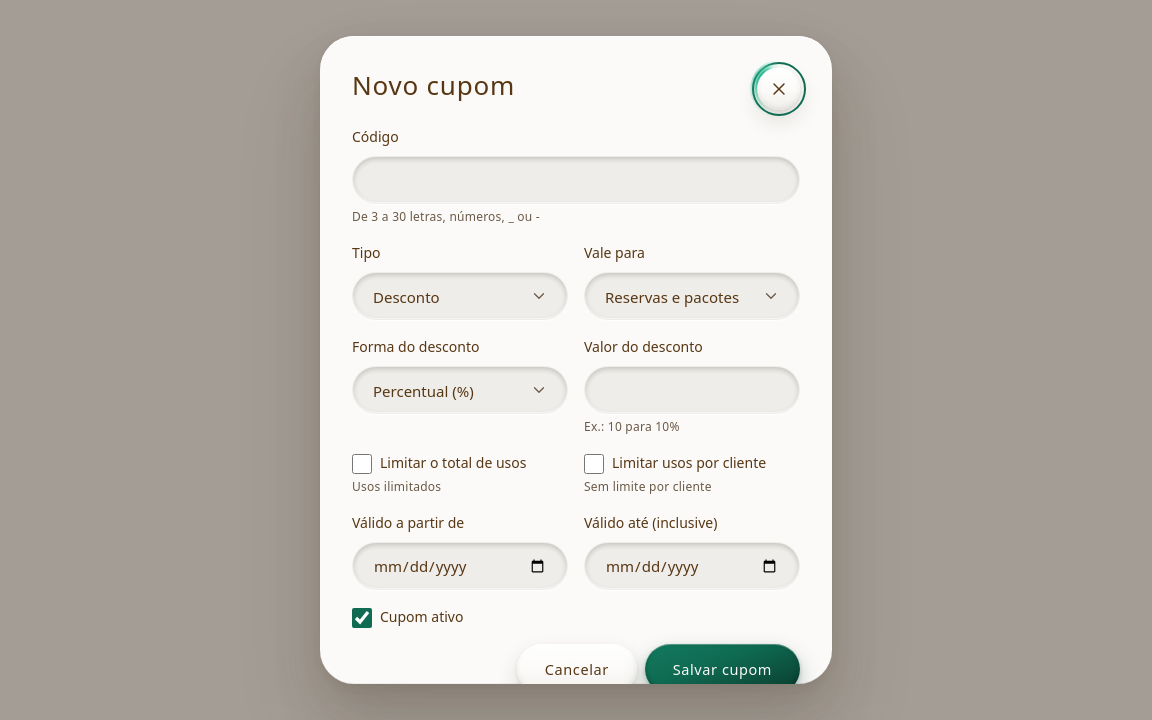
CouponFormModal create (REC-129) › shows a server 409 for a duplicate code on the Código field
The width and height of the screenshot is (1152, 720).
Type "BRAVO10" into the field labelled "Código".
click(576, 180); type("BRAVO10")  # box [352, 156, 800, 204]
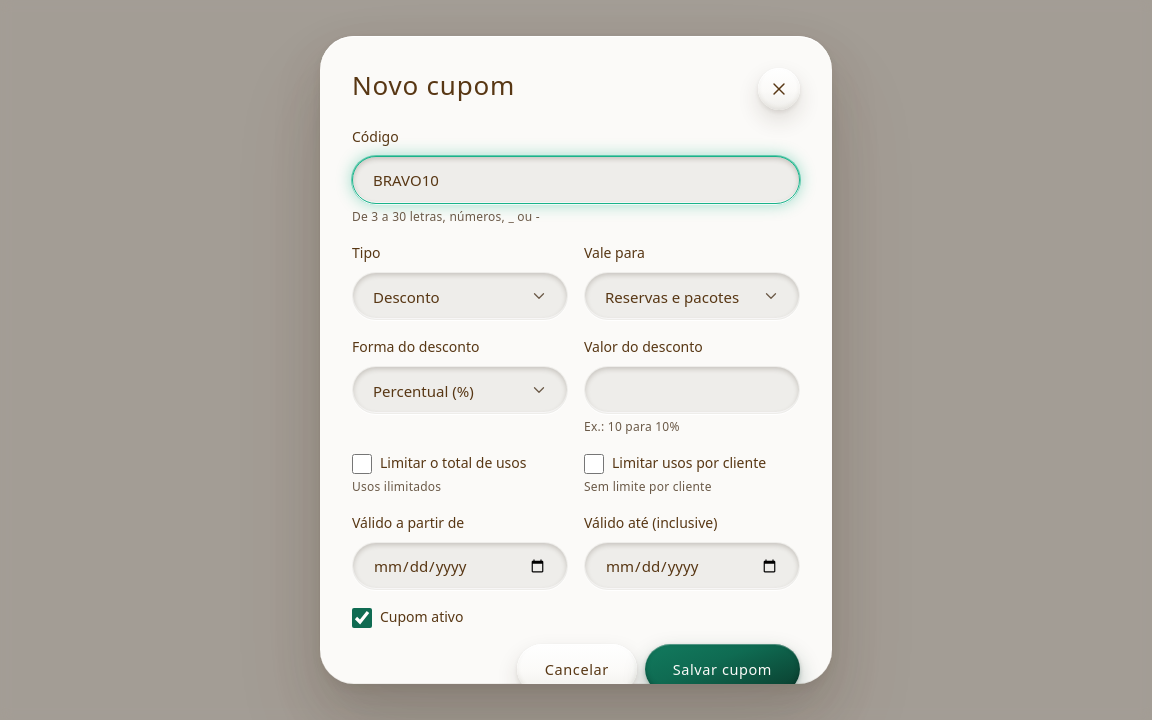
Type "10" into the field labelled "Valor do desconto".
click(692, 390); type("10")  # box [584, 366, 800, 414]
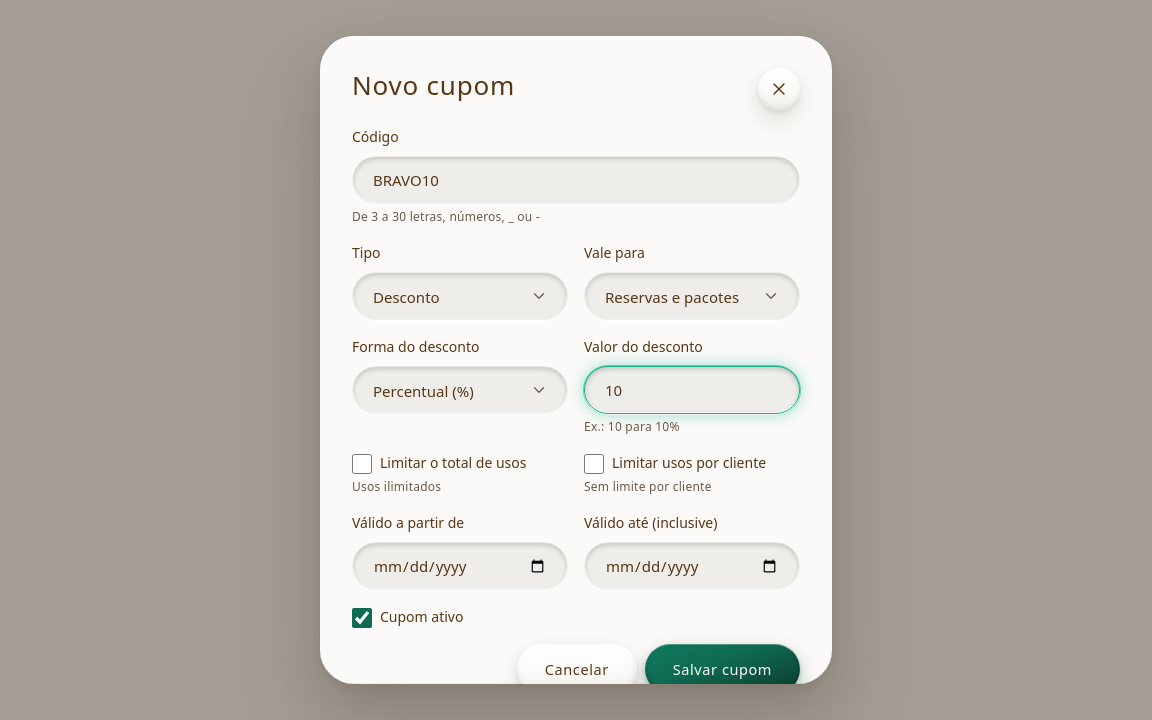
Click the button "Salvar cupom".
click(722, 669)  # box [645, 644, 800, 694]
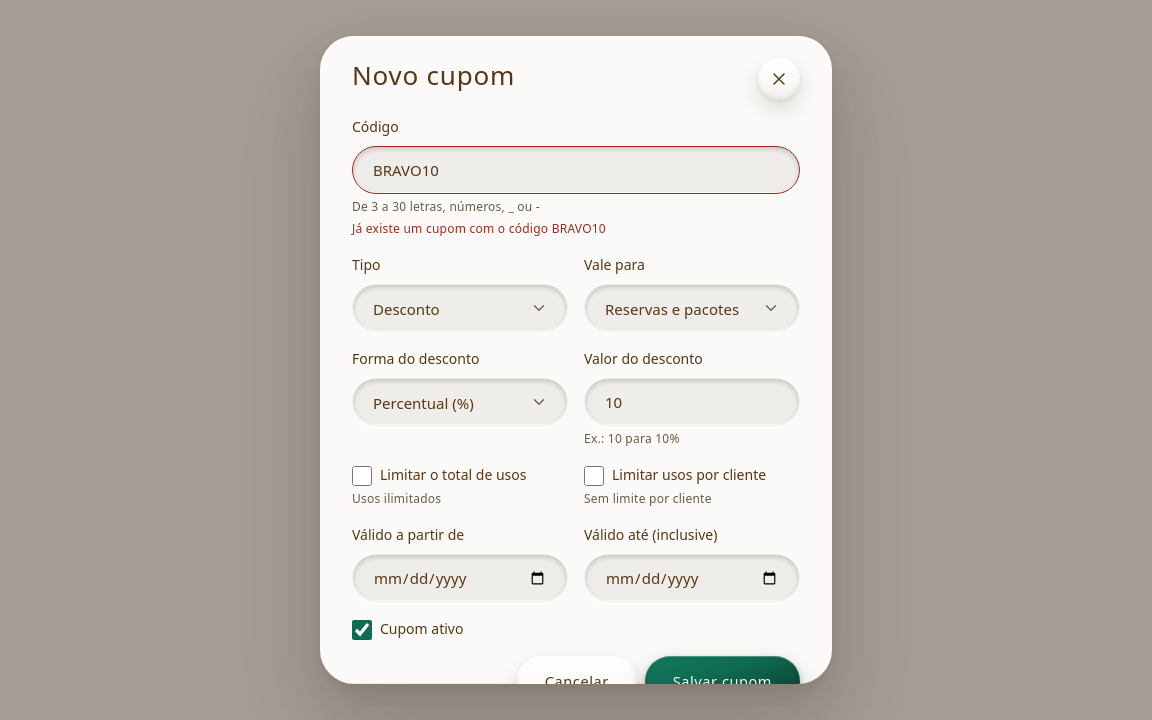
Now the text "Já existe um cupom com o código BRAVO10" is shown, box [352, 220, 606, 237]
